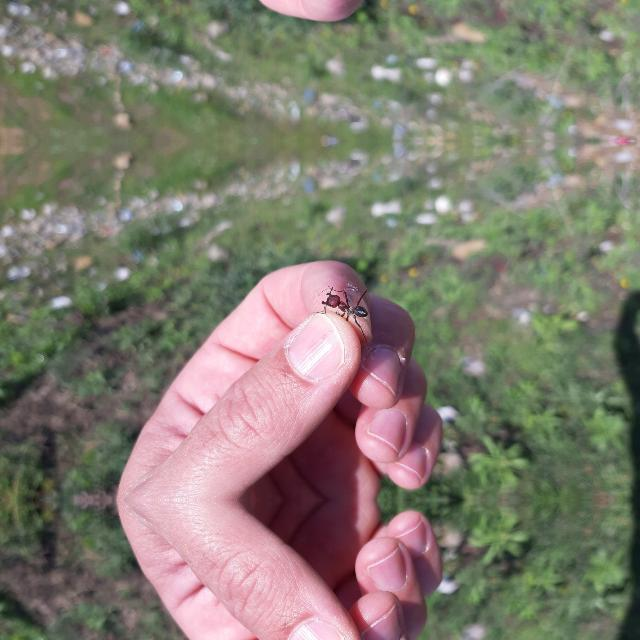Cataglyphis: (317, 290, 377, 320)
